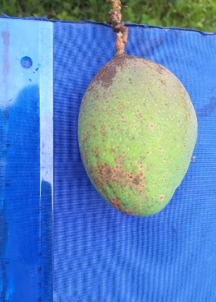Mango-Antracnosis: (78, 53, 196, 216)
